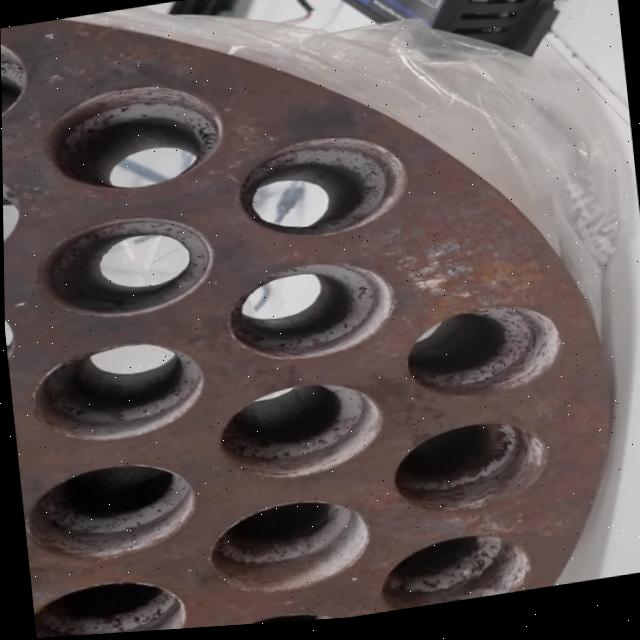Hole: (41, 75, 226, 200), (32, 206, 217, 328), (231, 128, 411, 251), (25, 333, 207, 451), (20, 454, 198, 570), (222, 256, 398, 372), (213, 377, 385, 490), (203, 495, 372, 604), (399, 303, 566, 410), (386, 421, 550, 526), (374, 532, 531, 617), (29, 573, 185, 639), (195, 607, 351, 630)
